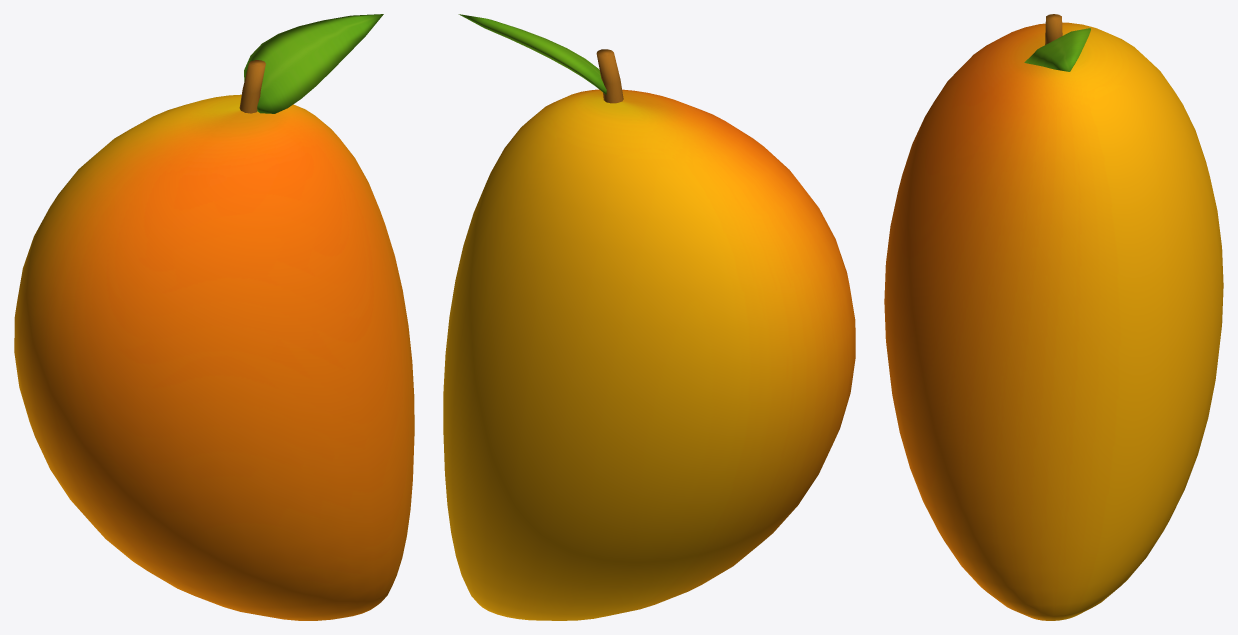
The model's file is Mango.fbx.
3 renders of one model, left to right at view 1: azimuth 30°, elevation 25°; view 2: azimuth 150°, elevation 25°; view 3: azimuth 270°, elevation 25°, orthographic. The views are drawn at different scales.
Parts seen in each view (by area): view 1: Mango_Geometry; view 2: Mango_Geometry; view 3: Mango_Geometry.
Part boxes in pixels (x1,y1,x2,y2): Mango_Geometry: (14,14,414,620); Mango_Geometry: (443,14,855,620); Mango_Geometry: (884,14,1223,620).
Bounding box in the file's own units: 0.1419 × 0.213 × 0.116.
